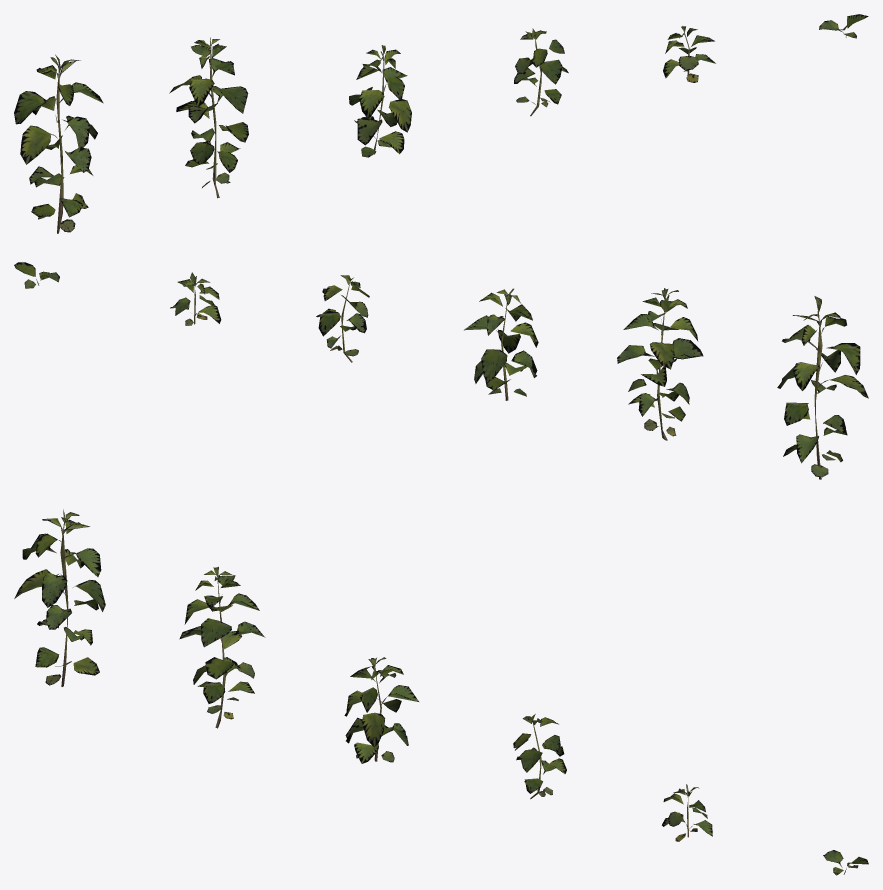
Rendered from nettle_plant.glb.
The picture shows the model from 3 angles, top to bottom: view 1: azimuth 30°, elevation 25°; view 2: azimuth 150°, elevation 25°; view 3: azimuth 330°, elevation 25°; orthographic projection.
Parts seen in each view (by area): view 1: lod0; view 2: lod0; view 3: lod0.
Part boxes in pixels (box(x1,y1,x2,y2)): lod0: box(14, 14, 868, 233); lod0: box(14, 262, 868, 479); lod0: box(14, 509, 868, 875).
Size of what is drawn, in the model's own units: 7.44 by 1.5 by 0.6533.
Materials: 1 (1 with a texture image).
